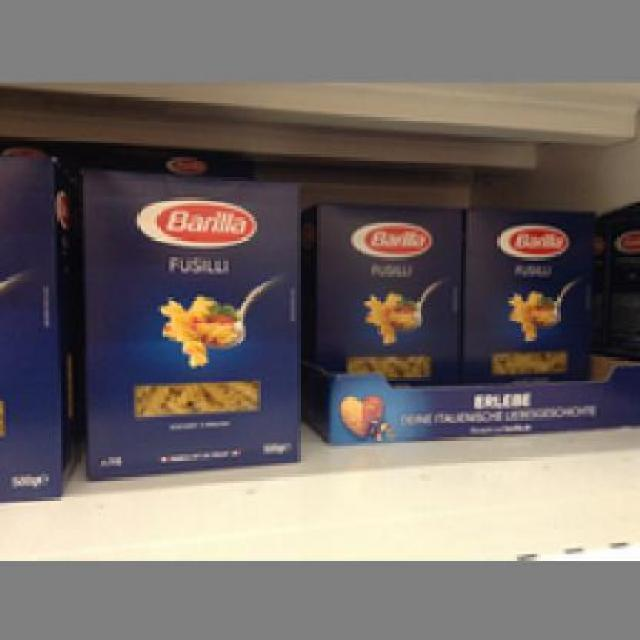Pasta: (74, 160, 303, 480), (300, 200, 466, 386), (460, 206, 594, 383)
